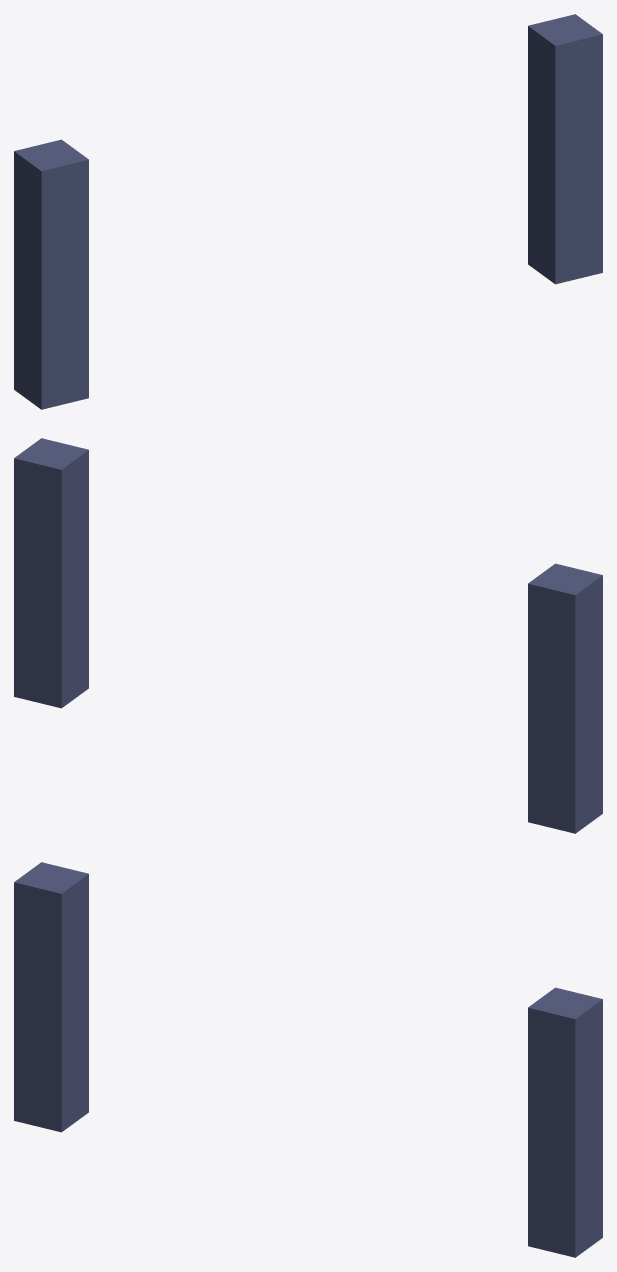
3 views of the same model, one above another, from view 1: azimuth 30°, elevation 25°; view 2: azimuth 150°, elevation 25°; view 3: azimuth 330°, elevation 25° (orthographic).
Parts seen in each view (by area): view 1: Base; view 2: Base; view 3: Base.
Boxes of the visible parts, x1,y1,x2,y2 form: Base: [14, 14, 602, 409]; Base: [14, 438, 602, 833]; Base: [14, 862, 602, 1257].
Size of the model in its own units: 4.93 by 2 by 0.418.
